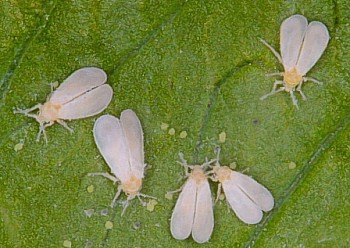whitefly: (11, 65, 113, 143), (92, 109, 156, 214), (259, 14, 330, 108), (204, 151, 274, 225), (169, 152, 217, 244)
